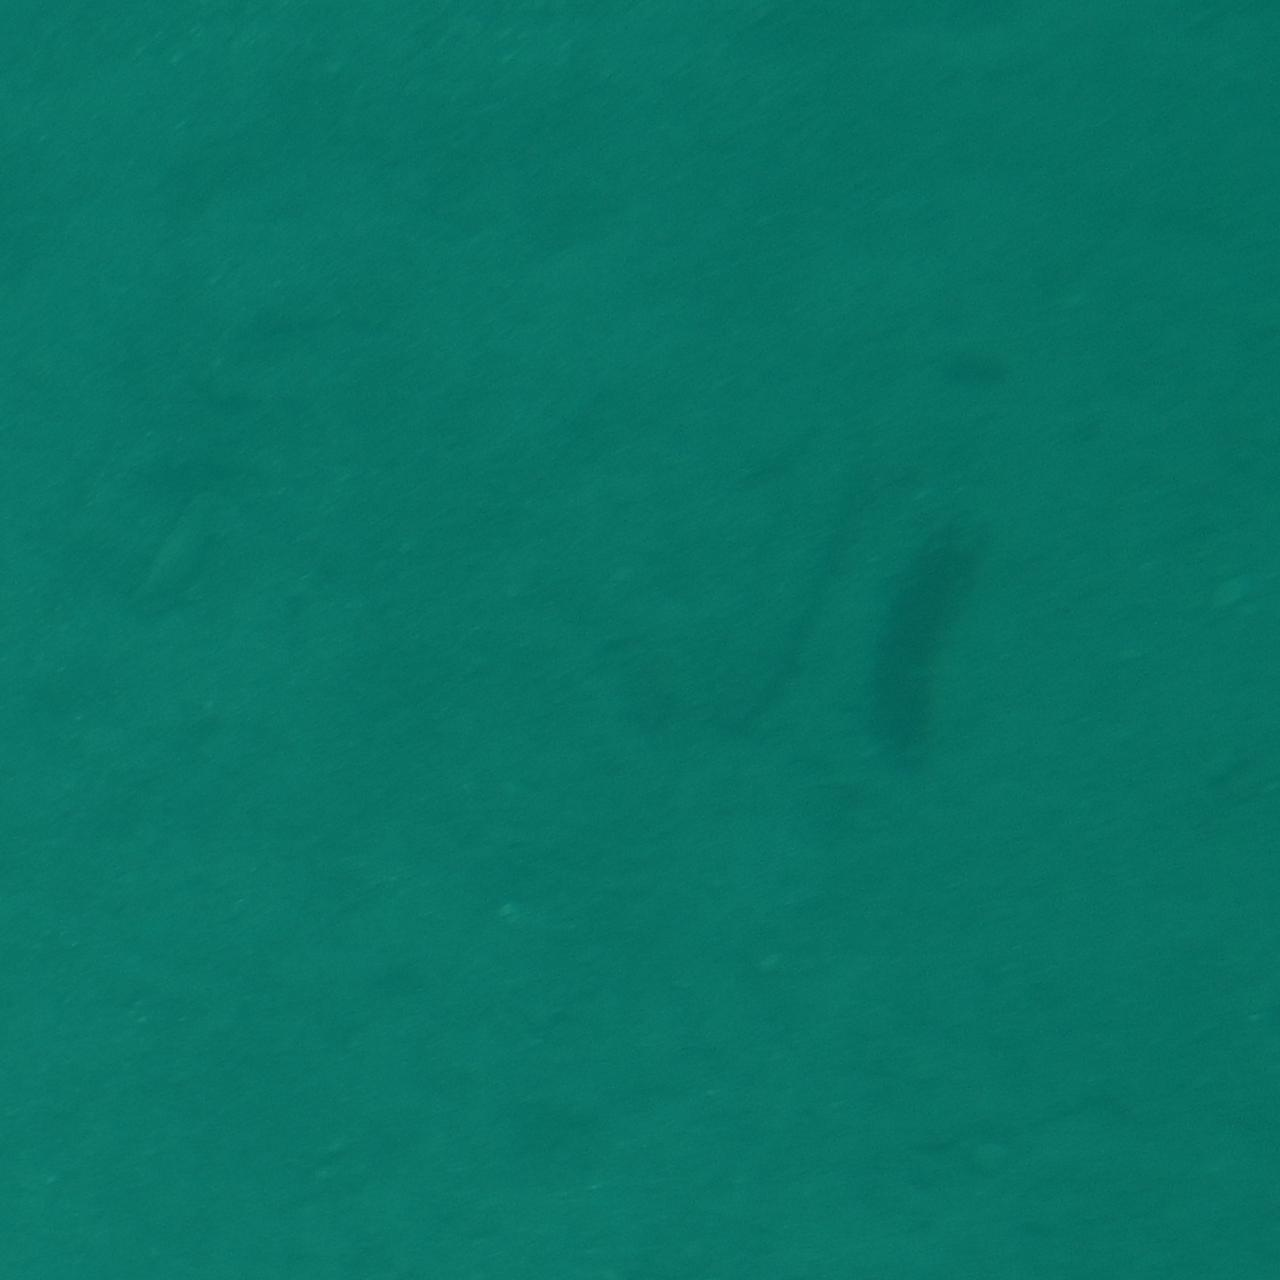Holothuria tubulosa: (857, 458, 994, 822)
